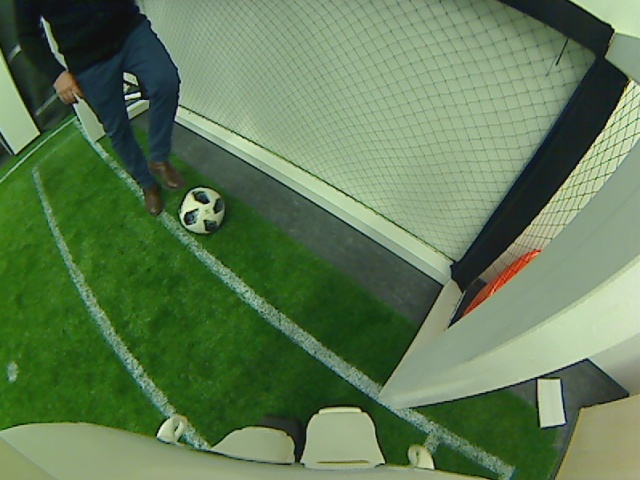ball: (174, 184, 226, 235)
